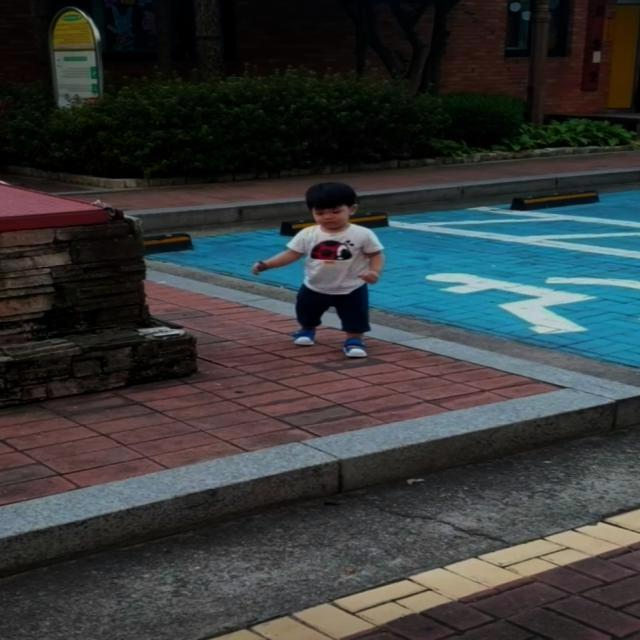child: (258, 175, 387, 361)
